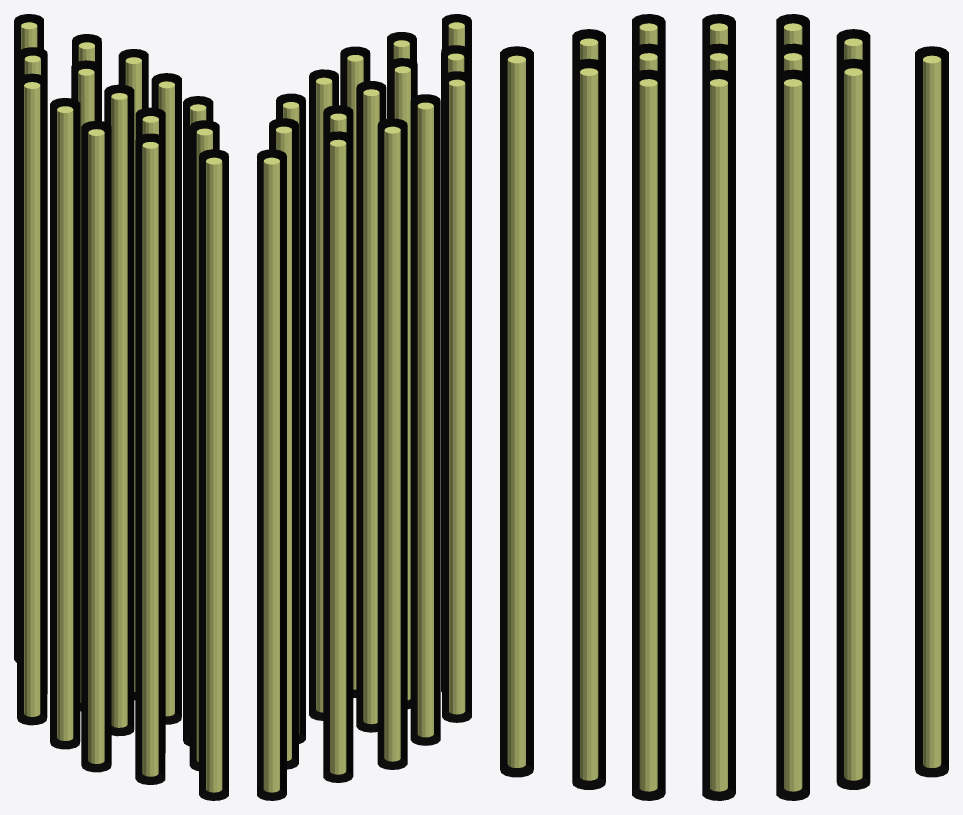
File: varetasControle.fbx
3 renders of one model, left to right at view 1: azimuth 30°, elevation 25°; view 2: azimuth 150°, elevation 25°; view 3: azimuth 270°, elevation 25°, orthographic. The views are drawn at different scales.
Visible parts, largest first — view 1: Vareta de Controle; view 2: Vareta de Controle; view 3: Vareta de Controle.
Part boxes in pixels (x1=…): Vareta de Controle: x1=14, y1=14, x2=228, y2=800; Vareta de Controle: x1=257, y1=14, x2=471, y2=800; Vareta de Controle: x1=500, y1=14, x2=948, y2=800.
Size of the model in its own units: 48.2 by 230 by 131.
